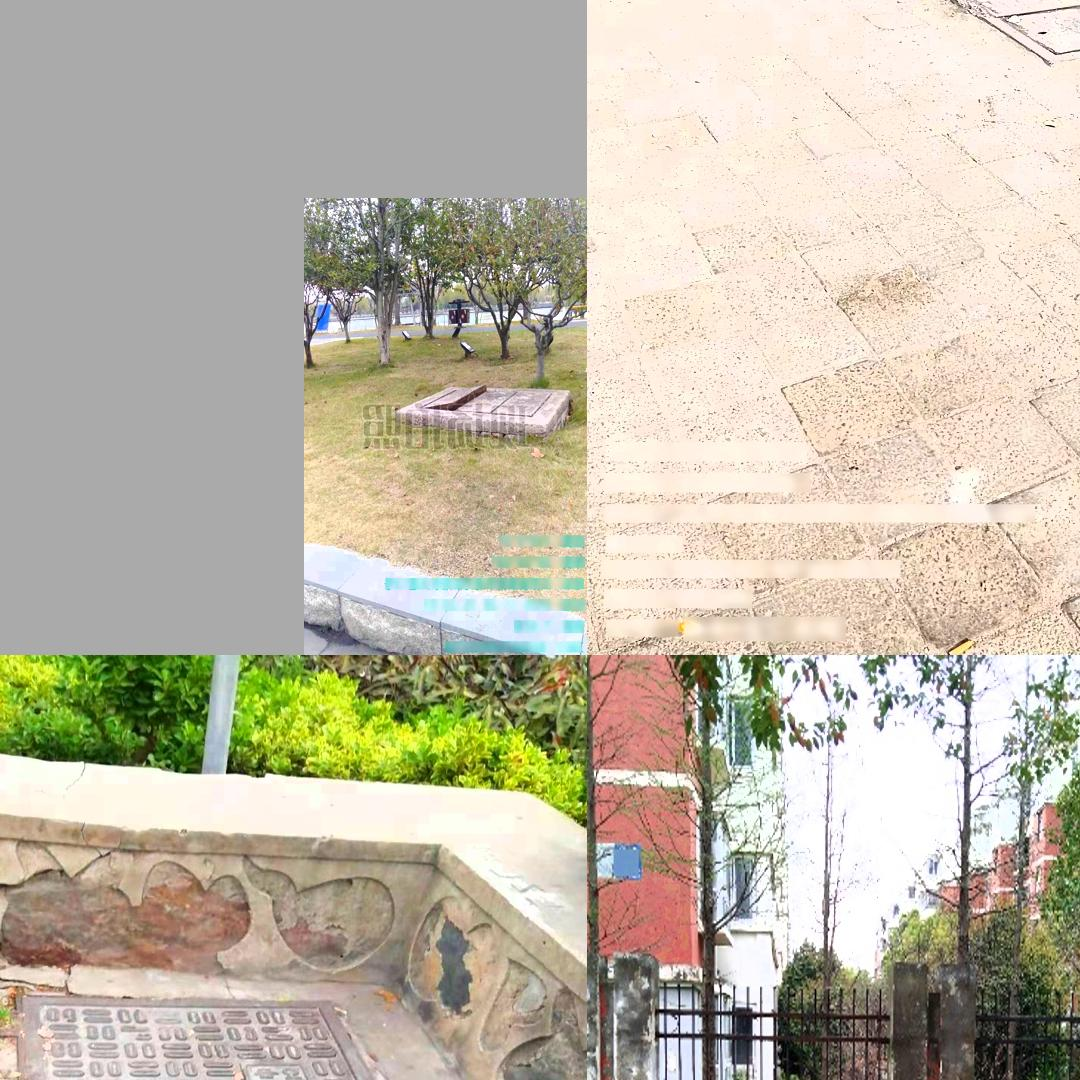good: (875, 0, 1080, 63)
uncovered: (0, 992, 492, 1080), (382, 382, 567, 426)
